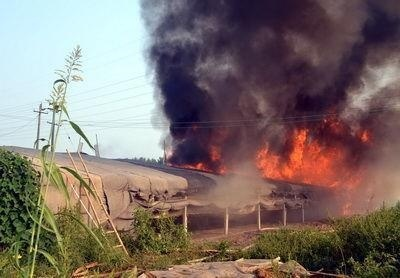fire: (259, 119, 372, 190), (173, 139, 231, 173)
